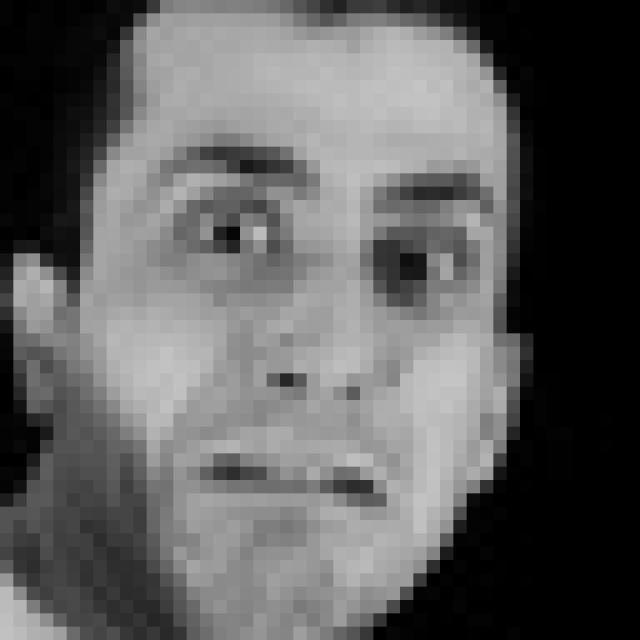fear: (132, 142, 499, 553)
